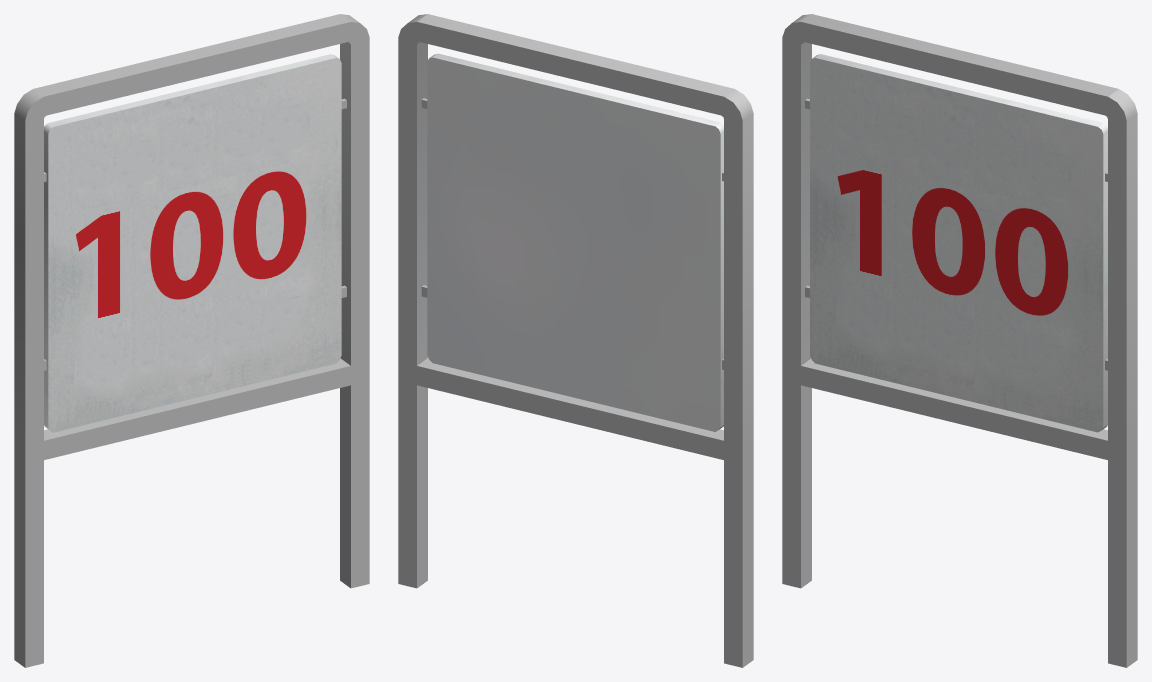
Rendered from Track_Sign_100_Red.fbx.
The picture shows the model from 3 angles, left to right: view 1: azimuth 30°, elevation 25°; view 2: azimuth 150°, elevation 25°; view 3: azimuth 330°, elevation 25°; orthographic projection.
Visible parts, largest first — view 1: Speed_100, Frame; view 2: Speed_100, Frame; view 3: Speed_100, Frame.
Boxes of the visible parts, <box> form: Speed_100: <box>44,54,341,432</box>; Frame: <box>14,14,369,667</box>; Speed_100: <box>427,53,723,431</box>; Frame: <box>398,14,753,667</box>; Speed_100: <box>810,54,1107,432</box>; Frame: <box>782,14,1137,667</box>.
Size of the model in its own units: 130 by 204 by 7.
